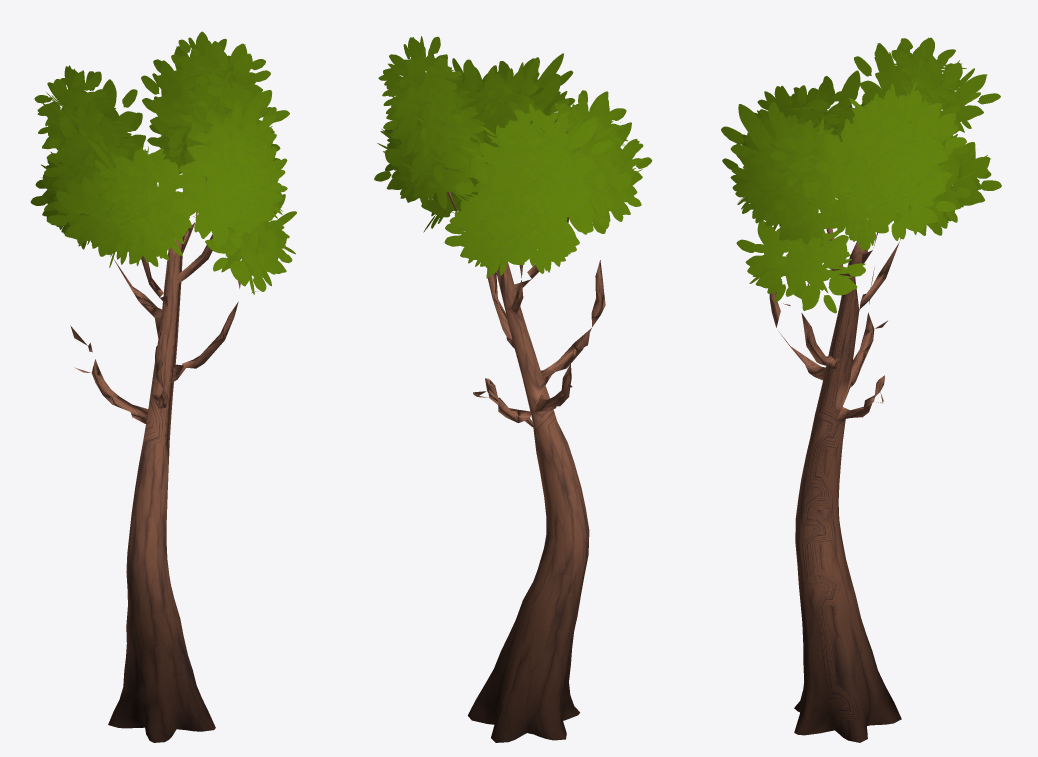
Rendered from CommonTree_4.glb.
The picture shows the model from 3 angles, left to right: view 1: azimuth 30°, elevation 25°; view 2: azimuth 150°, elevation 25°; view 3: azimuth 270°, elevation 25°; orthographic projection. The views are drawn at different scales.
Visible parts, largest first — view 1: CommonTree_4; view 2: CommonTree_4; view 3: CommonTree_4.
Part boxes in pixels (x1,y1,x2,y2): CommonTree_4: (30,31,296,742); CommonTree_4: (374,36,652,742); CommonTree_4: (721,37,1001,742).
Bounding box in the file's own units: 4.15 × 9.6 × 4.08.
Materials: 2 (2 with a texture image).
